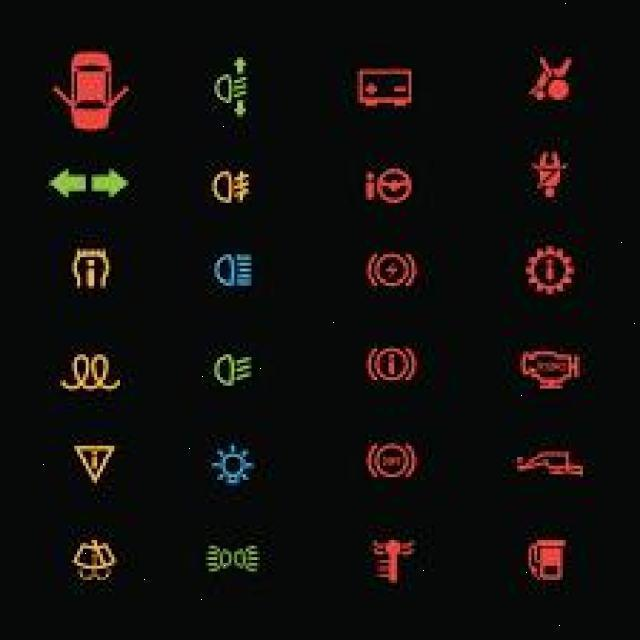Electronic Power Steering Warning: (360, 166, 415, 209)
Seat Belt: (538, 154, 568, 196)
Washer Fluid: (74, 542, 122, 582)
